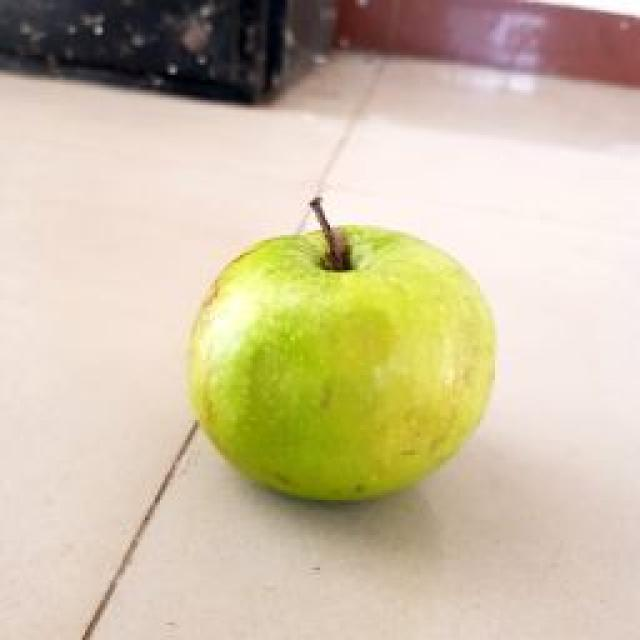Good_Apple: (189, 226, 495, 499)
